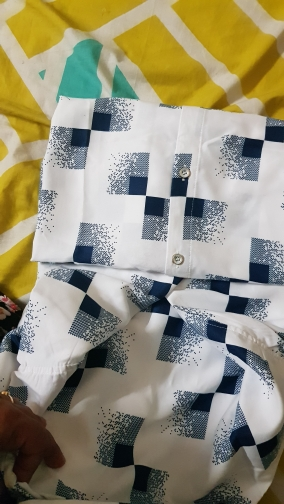shirts: (4, 95, 284, 468)
